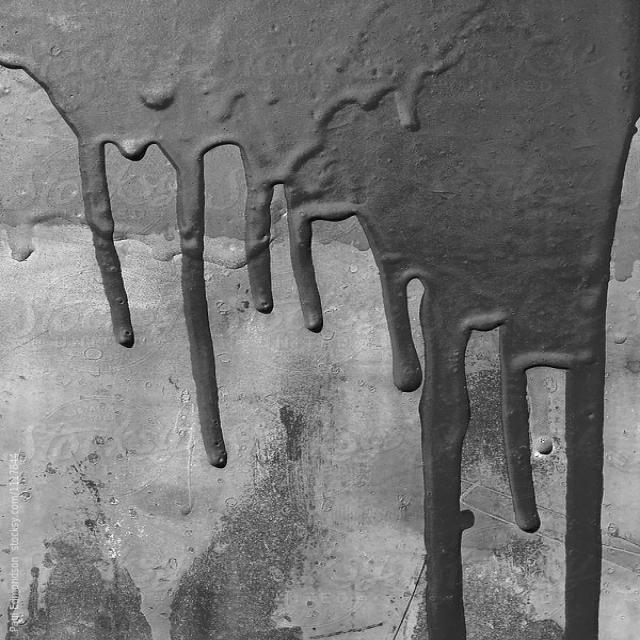paint drips: (362, 207, 640, 640), (156, 126, 362, 474), (0, 46, 158, 359), (276, 39, 471, 175), (127, 72, 297, 128)
